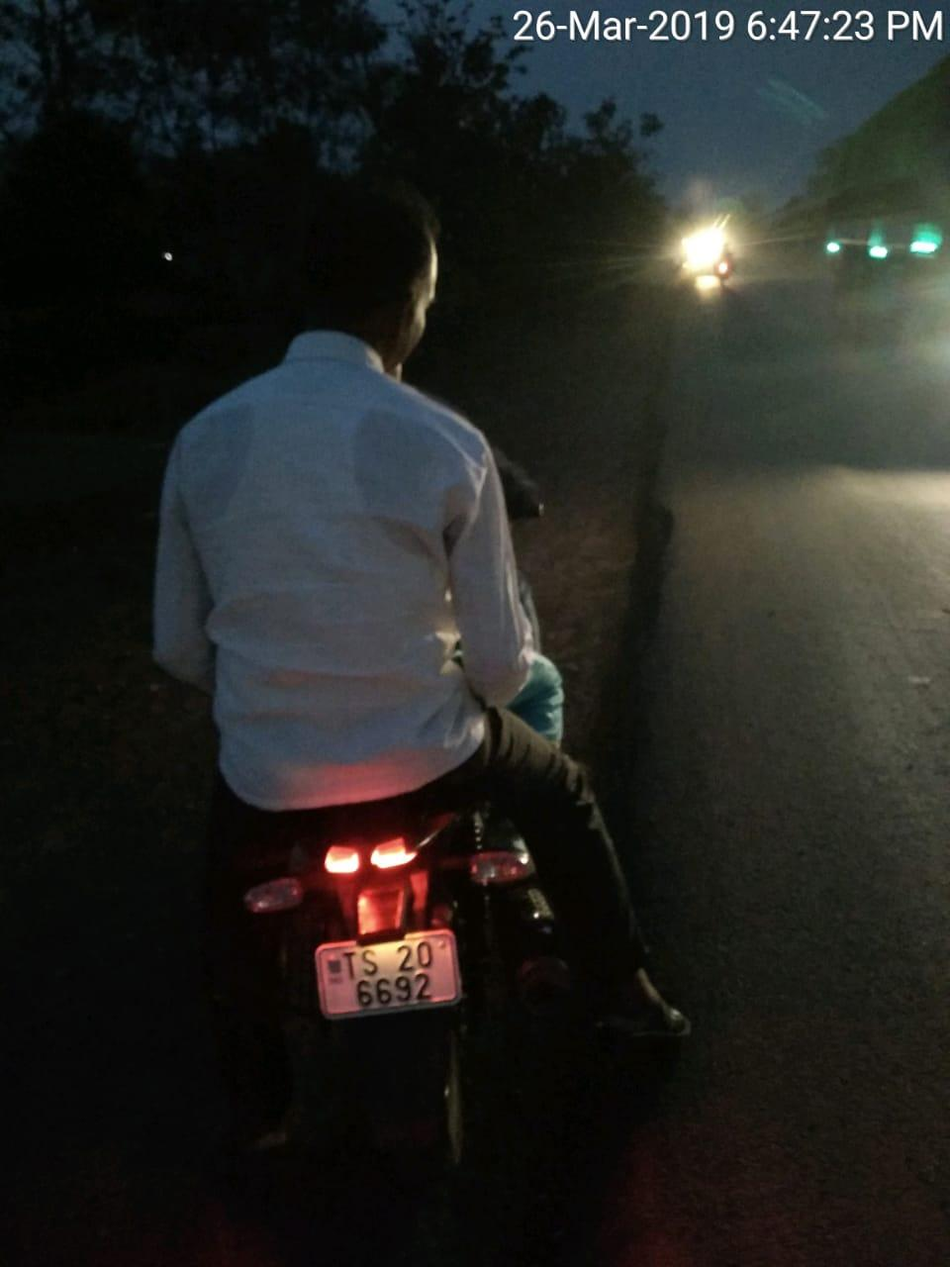plate: (281, 895, 500, 1038)
